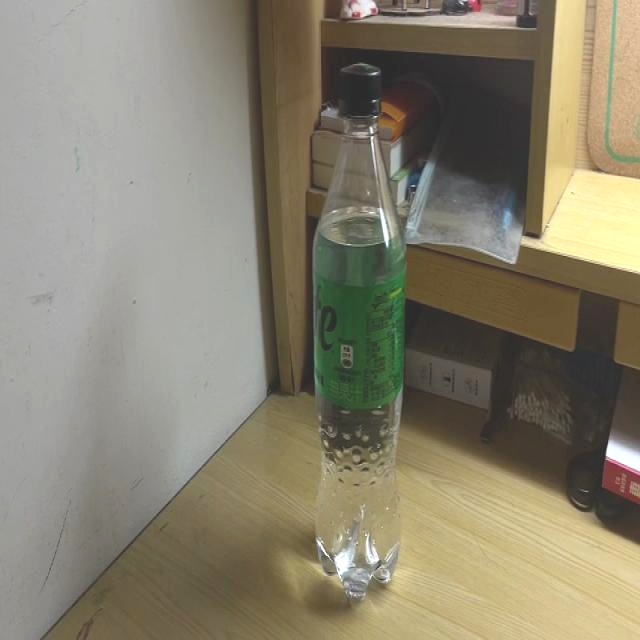Sprite: (312, 63, 406, 599)
